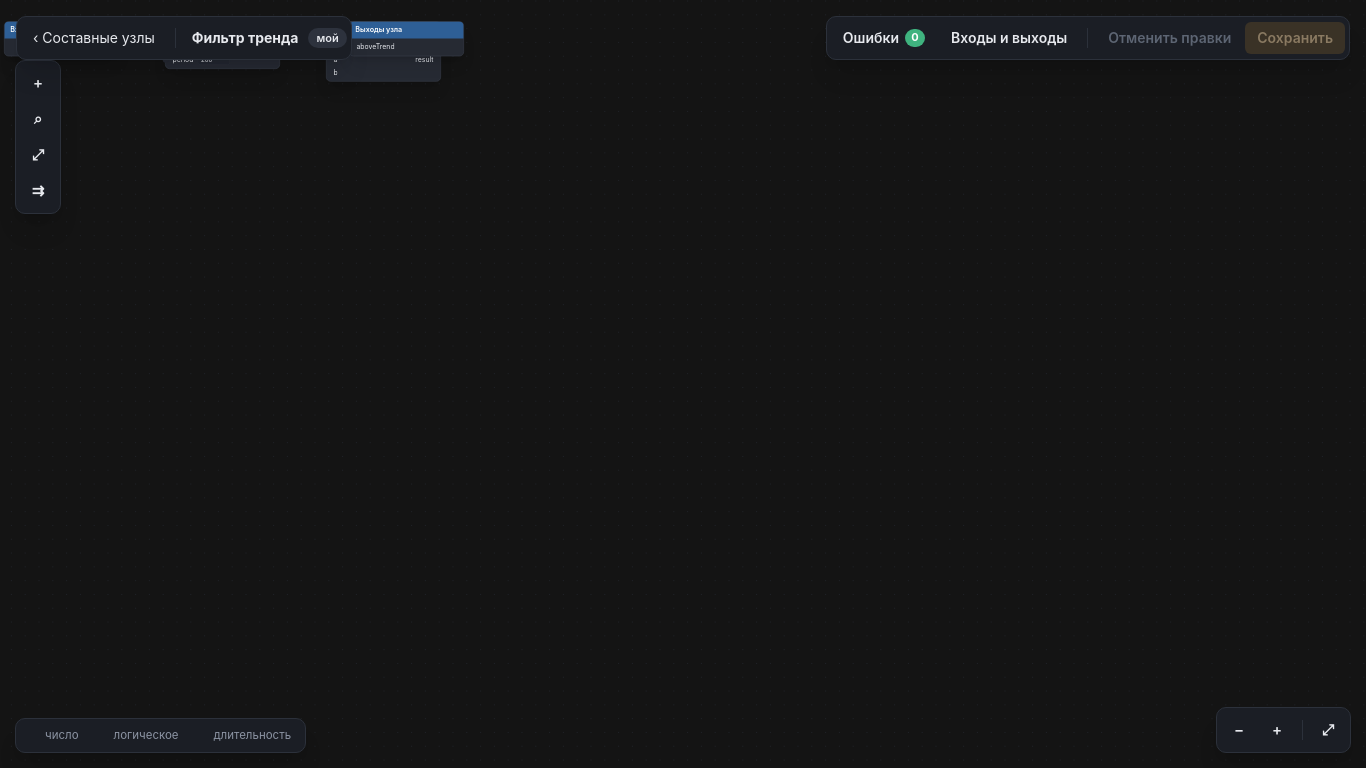
it: custom composite node editor › gives the inputs node an output for a new declared input
Click the button "Входы и выходы" at (1009, 38), box [939, 22, 1079, 54]
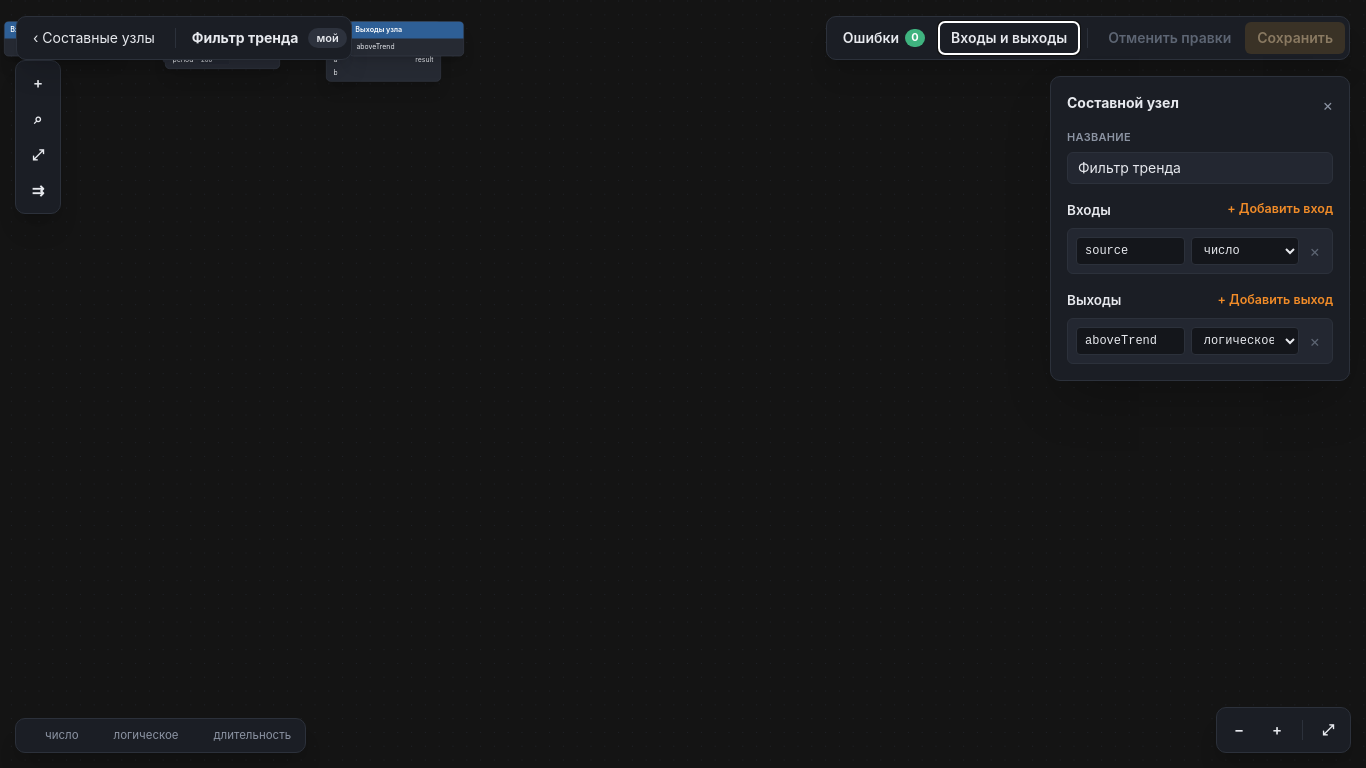
Click the button "+ Добавить вход" at (1280, 210), box [1227, 200, 1333, 219]
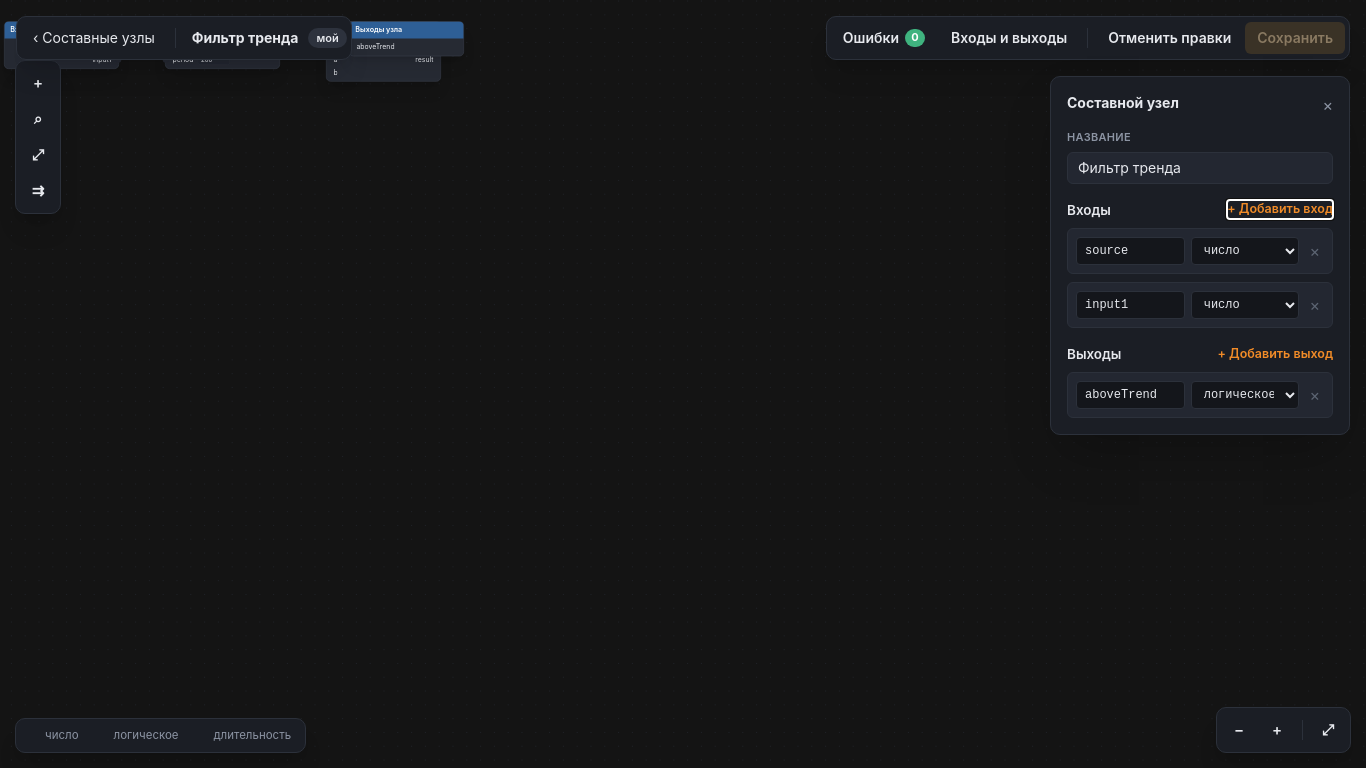
Replace the text in the 2nd field named "Имя входа" with "period" at (1130, 305), box [1076, 291, 1185, 319]
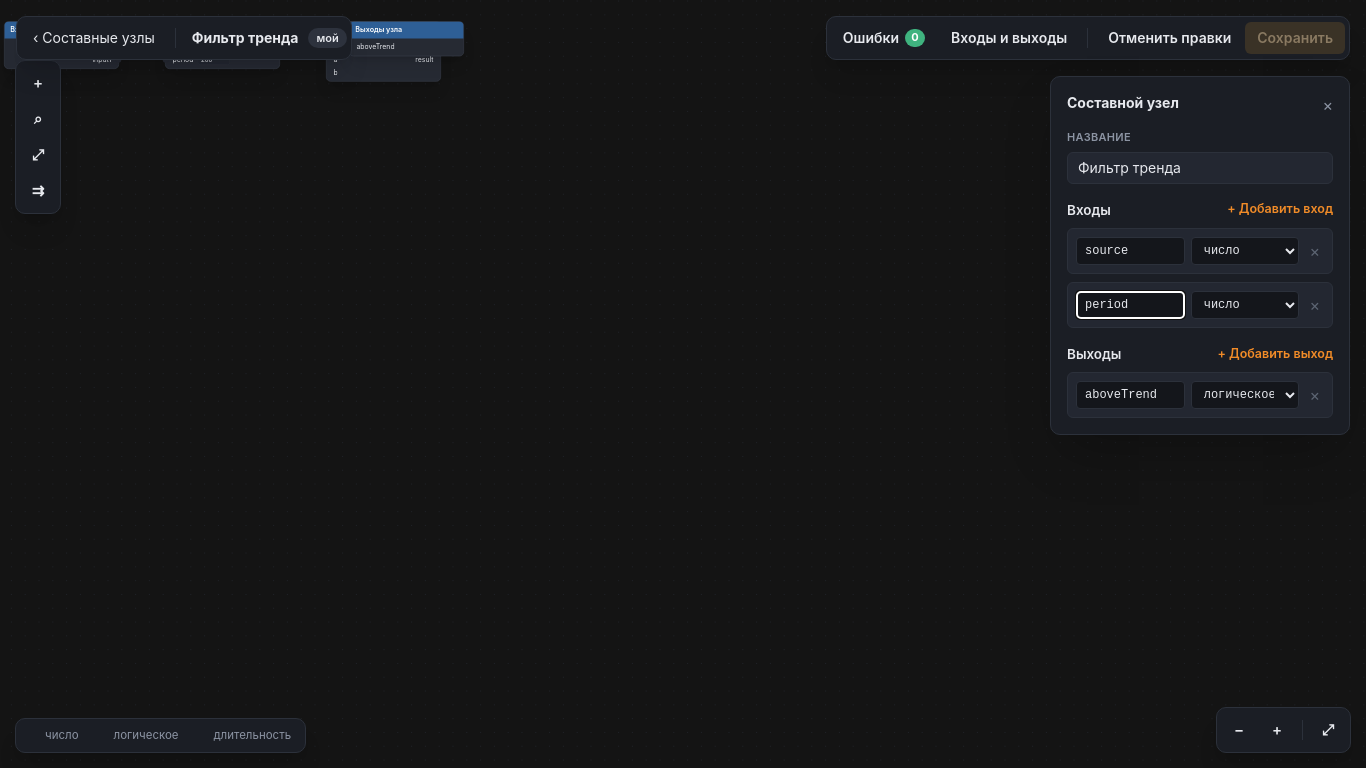
Press Tab
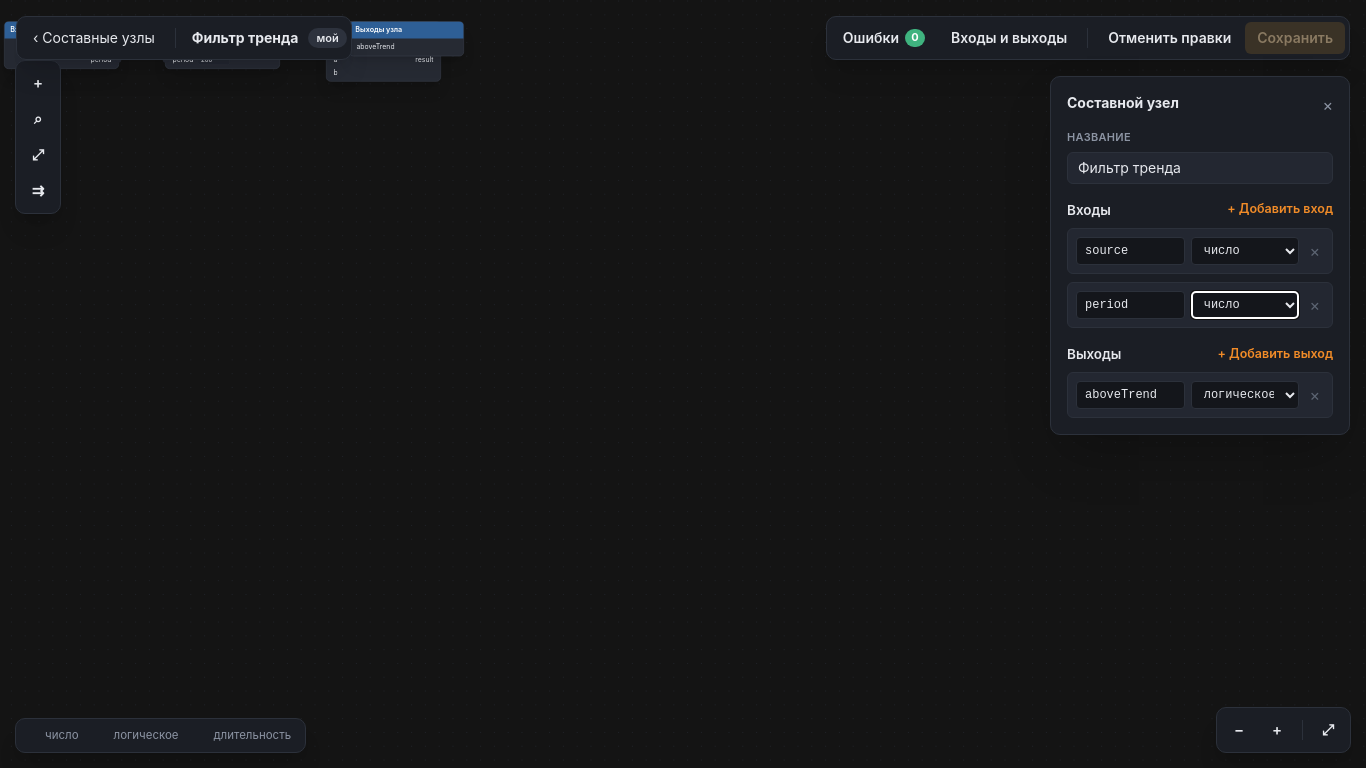
Expected: the text "period" is shown, [91, 55, 112, 64]
